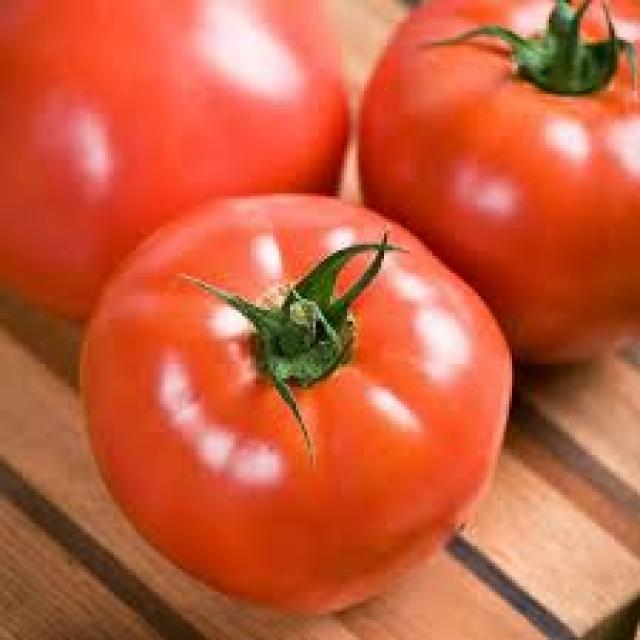Fresh_tomato: (82, 194, 511, 616)
